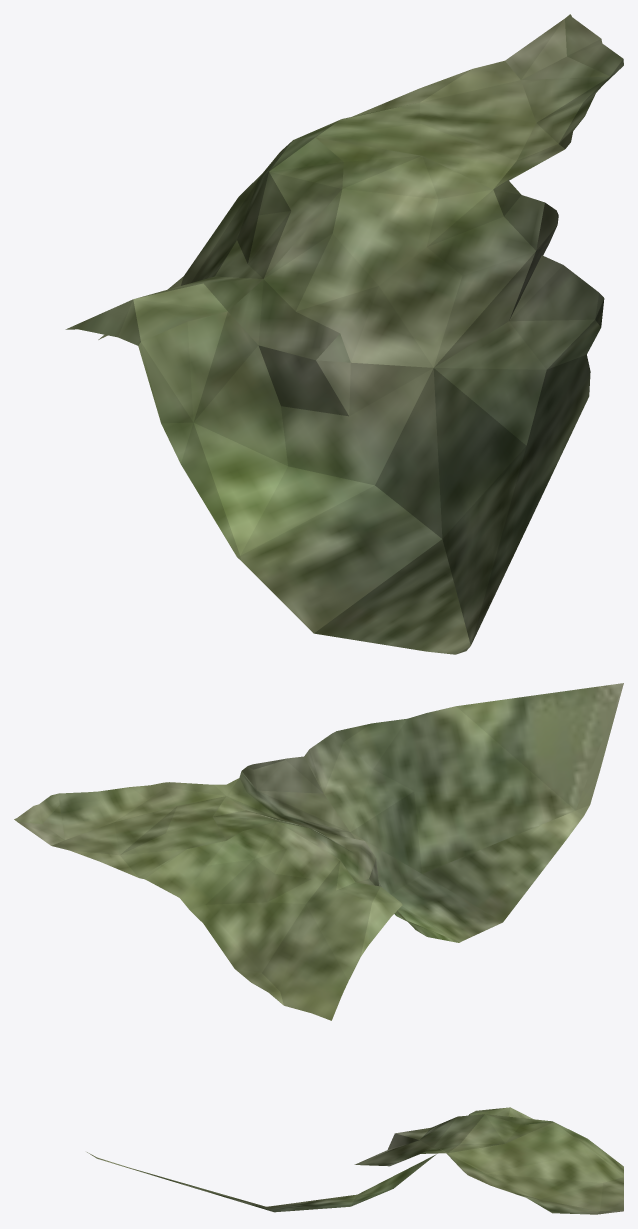
3 renders of one model, top to bottom at view 1: azimuth 30°, elevation 25°; view 2: azimuth 150°, elevation 25°; view 3: azimuth 270°, elevation 25°, orthographic. The views are drawn at different scales.
Size of the model in its own units: 1.9 by 0.8626 by 3.03.
Materials: 1 (1 with a texture image).
